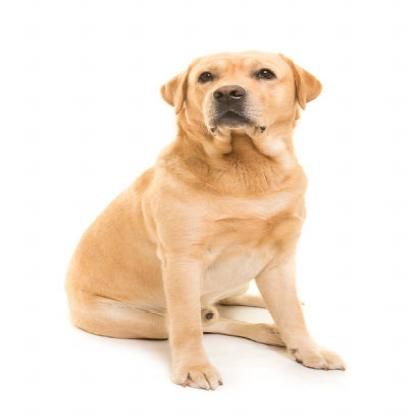dog: (65, 51, 354, 388)
